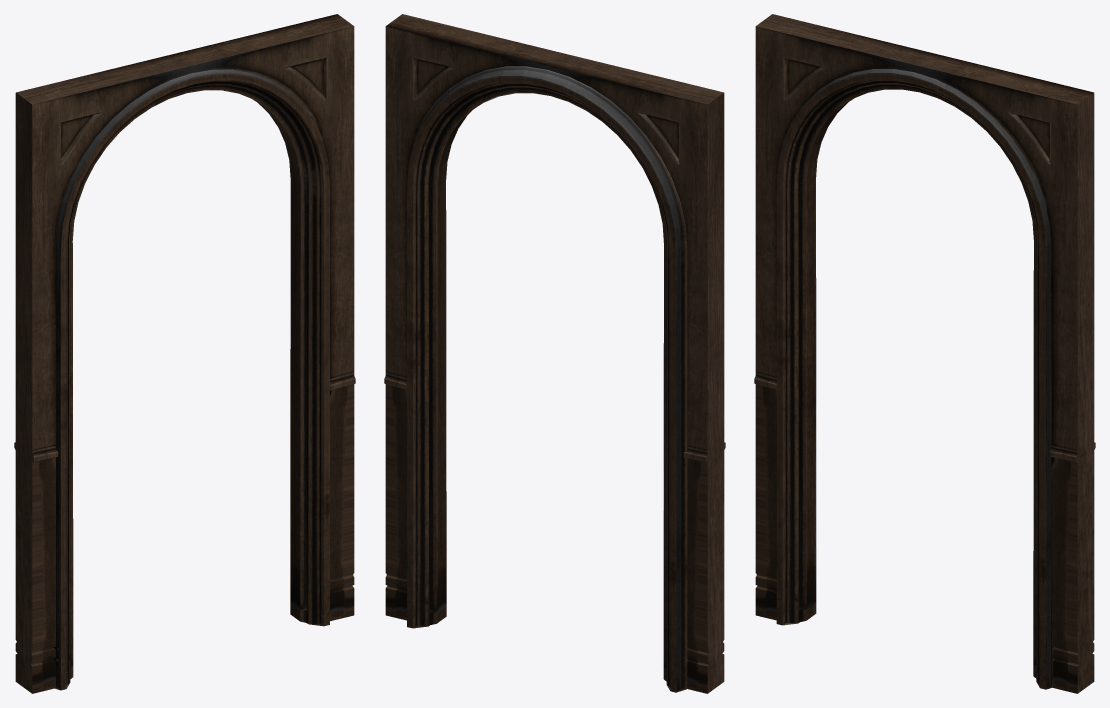
Rendered from RoundDoorWay.fbx.
3 renders of one model, left to right at view 1: azimuth 30°, elevation 25°; view 2: azimuth 150°, elevation 25°; view 3: azimuth 330°, elevation 25°, orthographic.
Parts seen in each view (by area): view 1: SM_Wall_Door_Front_LOD0; view 2: SM_Wall_Door_Front_LOD0; view 3: SM_Wall_Door_Front_LOD0.
Boxes of the visible parts, bbox=[...] form: SM_Wall_Door_Front_LOD0: bbox=[14, 14, 355, 693]; SM_Wall_Door_Front_LOD0: bbox=[384, 14, 725, 693]; SM_Wall_Door_Front_LOD0: bbox=[754, 14, 1095, 693].
Size of the model in its own units: 200 by 350 by 29.08.
